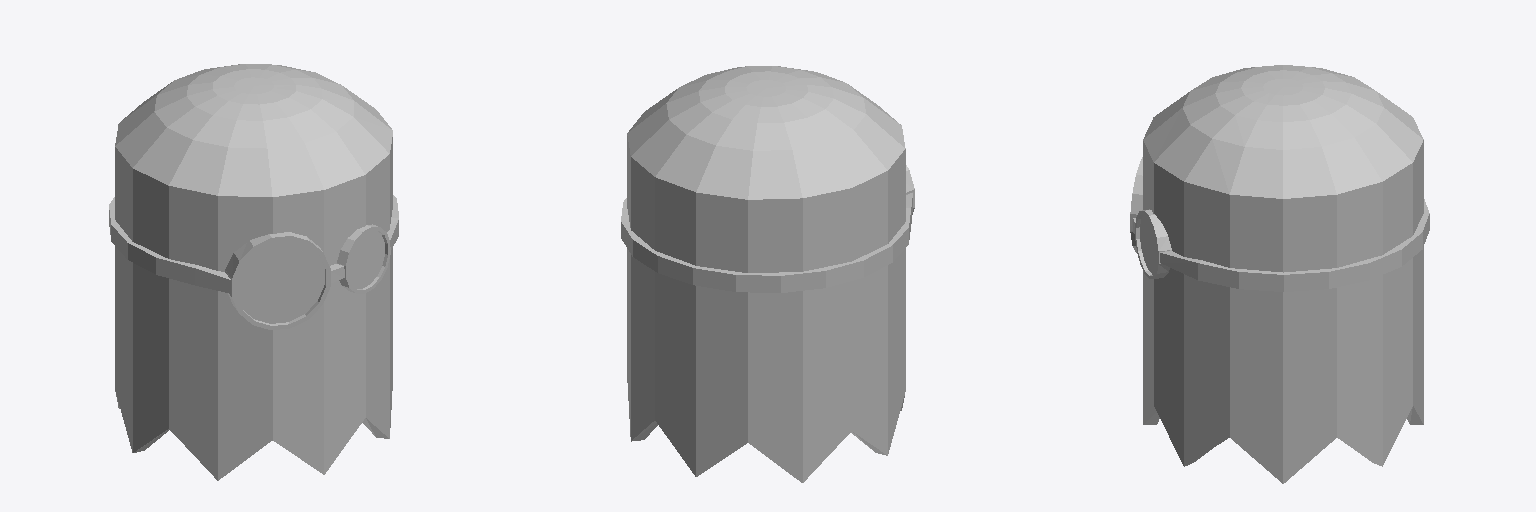
The model's file is Ghost.obj.
The picture shows the model from 3 angles: view 1: azimuth 30°, elevation 25°; view 2: azimuth 150°, elevation 25°; view 3: azimuth 270°, elevation 25°; orthographic projection.
Visible parts, largest first — view 1: Ghost; view 2: Ghost; view 3: Ghost.
Part boxes in pixels (x1,y1,x2,y2): Ghost: (109,64,398,480); Ghost: (621,66,914,482); Ghost: (1130,65,1429,483).
Size of the model in its own units: 1.78 by 2.28 by 1.83.